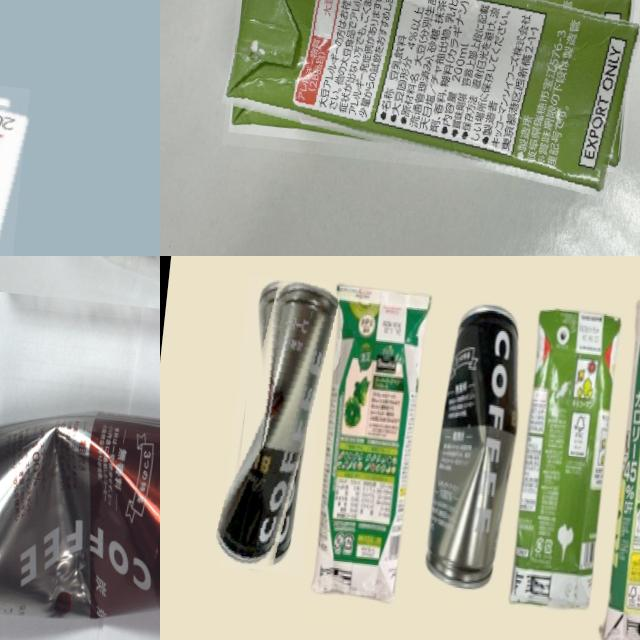Aluminium Foil: (221, 0, 640, 186), (300, 279, 430, 610), (506, 302, 622, 614), (599, 293, 640, 640)
Can: (0, 401, 160, 626), (218, 275, 332, 575), (424, 302, 527, 586)
Transparent Plastic Bottle: (0, 256, 160, 346)
